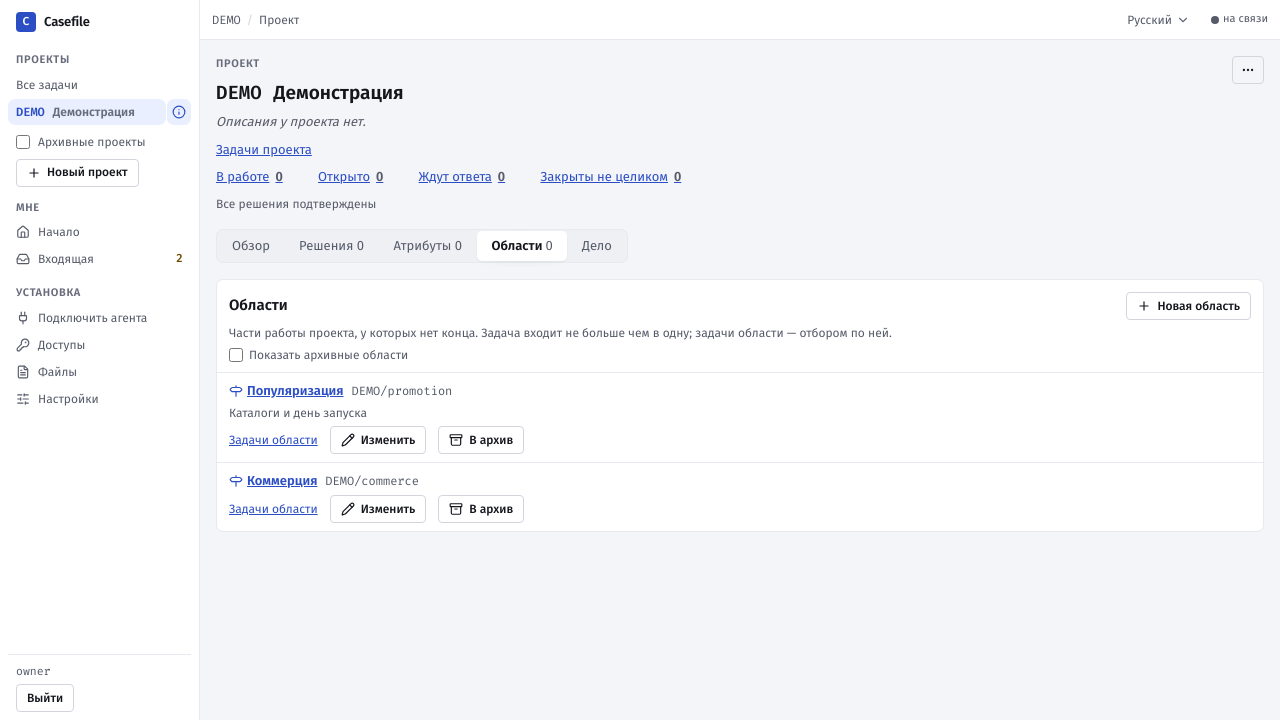
Test: раздел «Области» экрана проекта › архив области из строки — только с причиной
Click the button "В архив" below "Популяризация". click: {"x": 481, "y": 440}
box: x1=438 y1=426 x2=524 y2=454
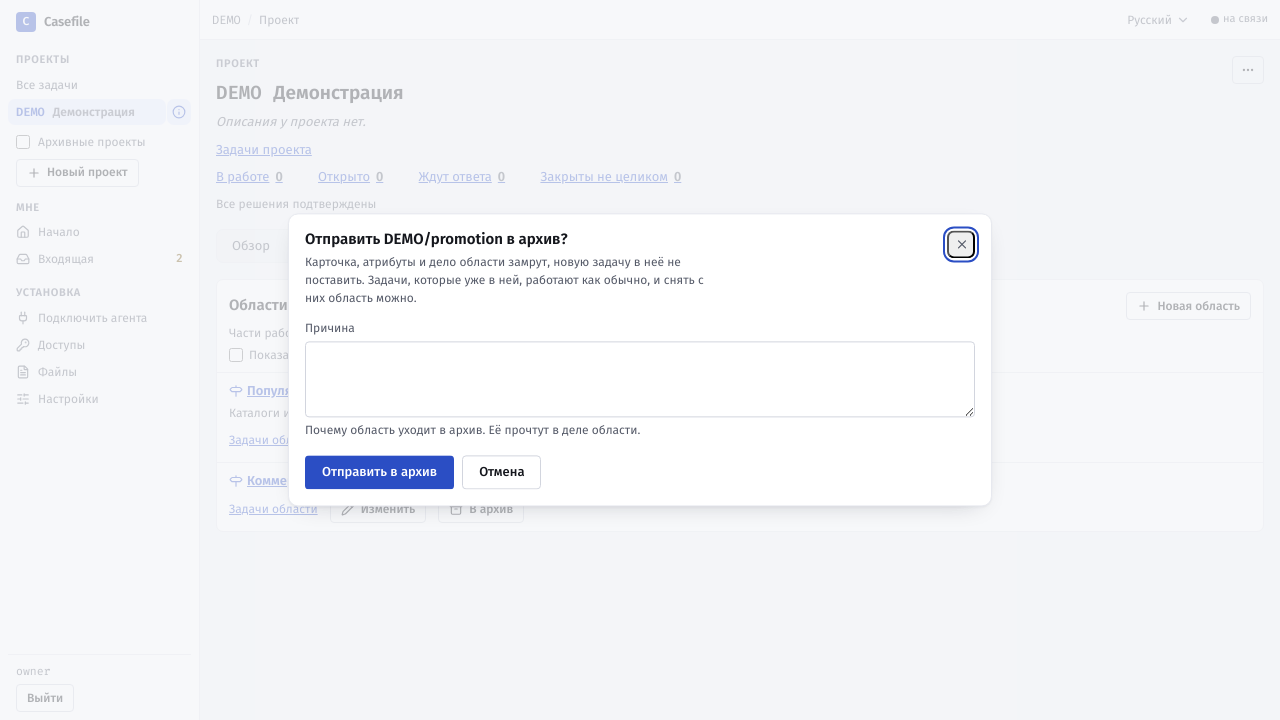
Type "Запуск прошёл" into the text box labelled "Причина". click: {"x": 640, "y": 379}
box: x1=305 y1=341 x2=975 y2=418
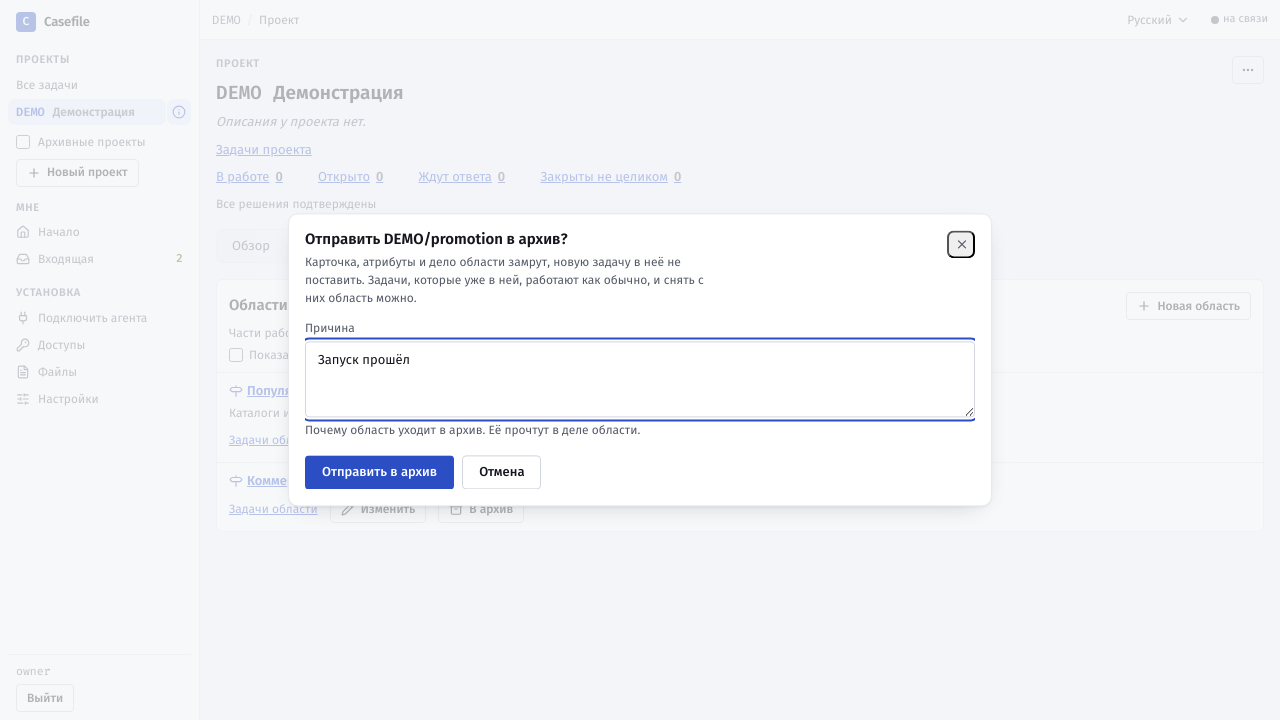
Click the button "Отправить в архив". click: {"x": 380, "y": 473}
box: x1=305 y1=456 x2=454 y2=490
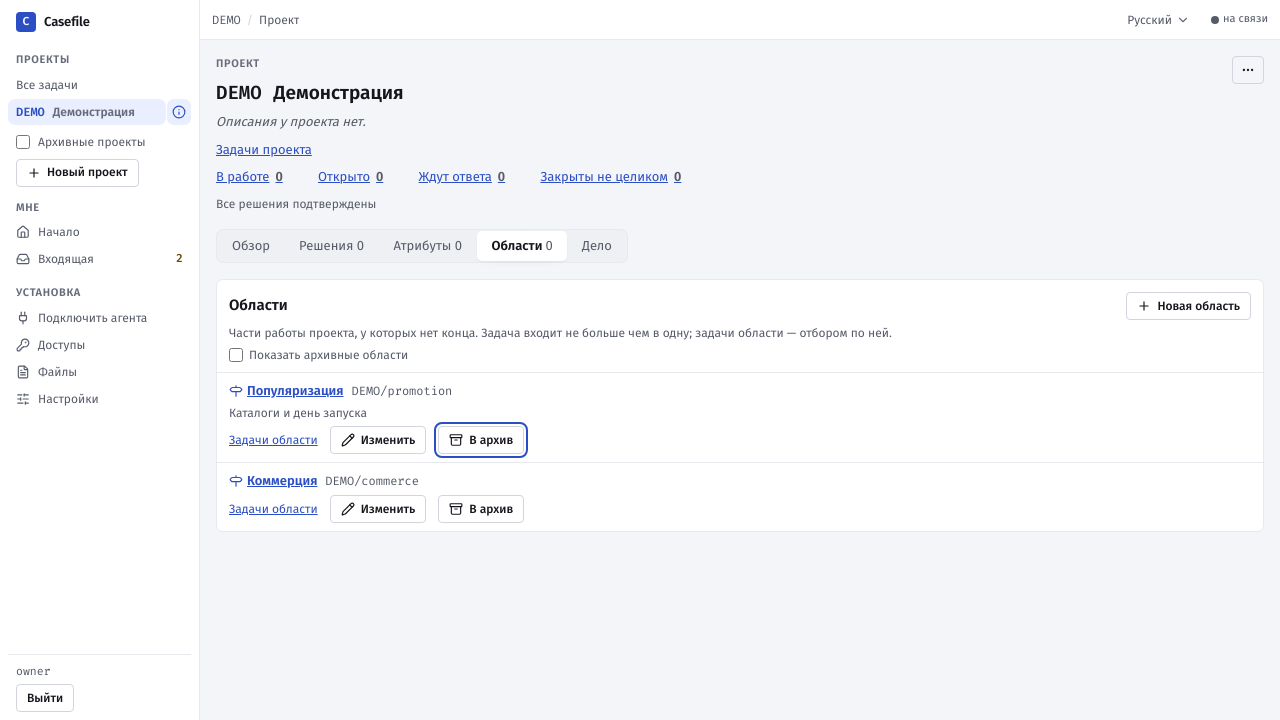
Expected: the dialog is gone
